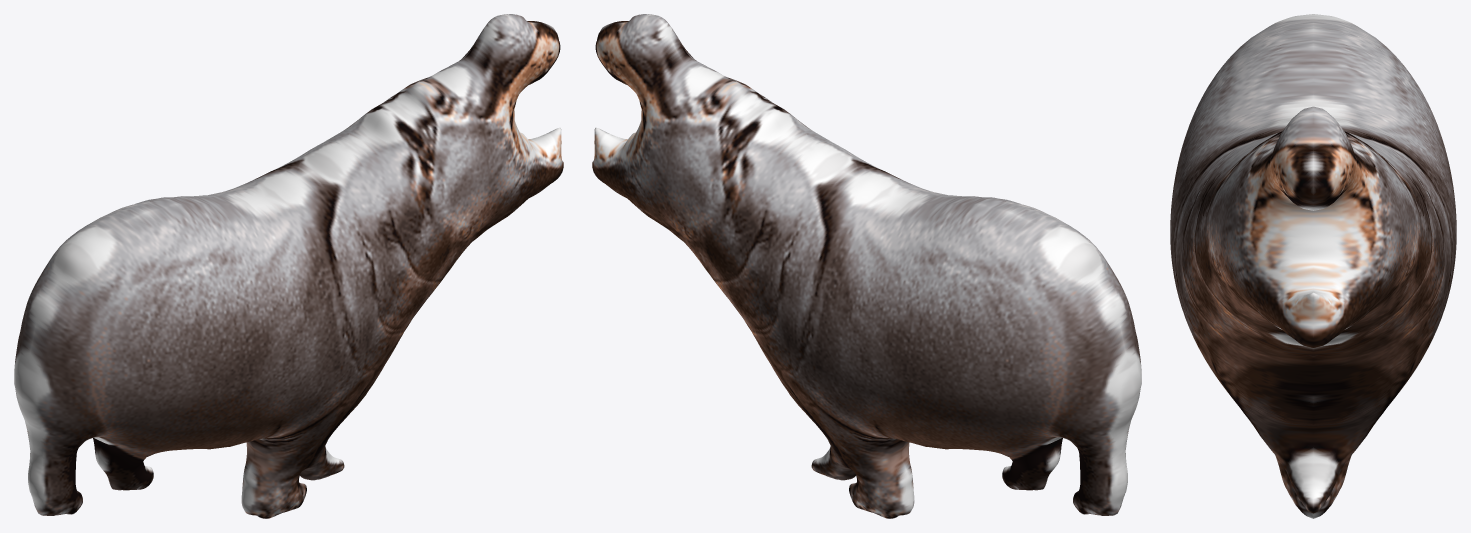
The model's file is mm_project.glb.
The picture shows the model from 3 angles, left to right: view 1: azimuth 30°, elevation 25°; view 2: azimuth 150°, elevation 25°; view 3: azimuth 270°, elevation 25°; orthographic projection. The views are drawn at different scales.
Size of the model in its own units: 8.15 by 6.39 by 3.1.
Materials: 1 (1 with a texture image).
